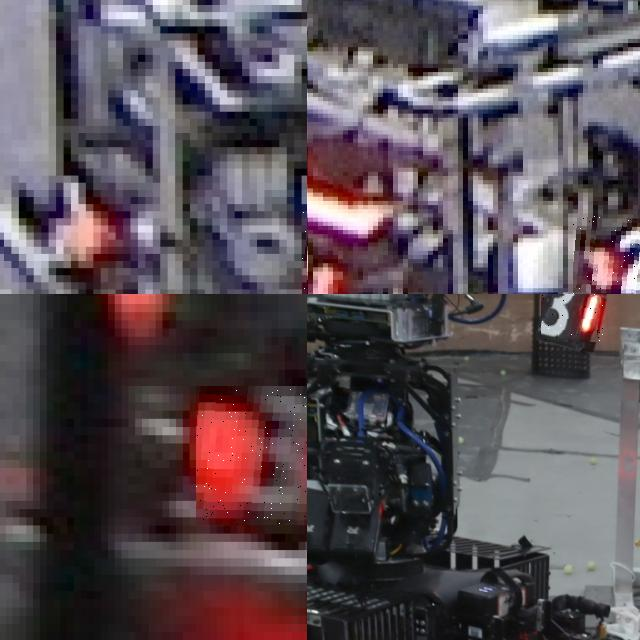R2: (573, 211, 640, 294), (307, 223, 338, 294)
R3: (196, 385, 307, 525), (541, 294, 603, 342)
